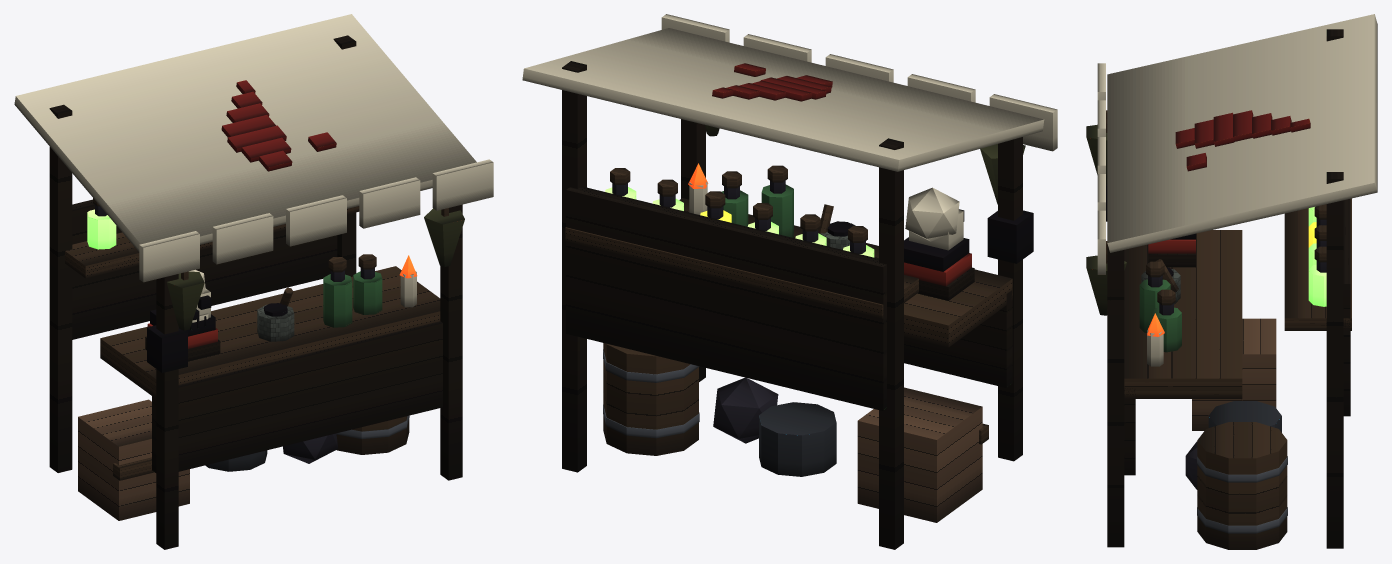
Rendered from market_stall.gltf.
3 views of the same model, side by side, from view 1: azimuth 30°, elevation 25°; view 2: azimuth 150°, elevation 25°; view 3: azimuth 270°, elevation 25° (orthographic). The views are drawn at different scales.
Parts seen in each view (by area): view 1: market_stall; view 2: market_stall; view 3: market_stall.
Part boxes in pixels (bbox=[...]): market_stall: bbox=[14, 14, 493, 549]; market_stall: bbox=[522, 14, 1057, 549]; market_stall: bbox=[1086, 14, 1377, 549].
Size of the model in its own units: 1.48 by 1.47 by 1.04.
1 material, 1 textured.
